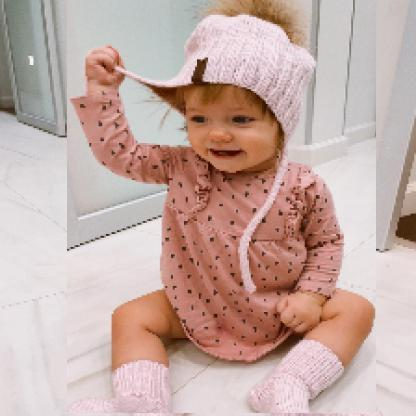child: (68, 1, 378, 415)
